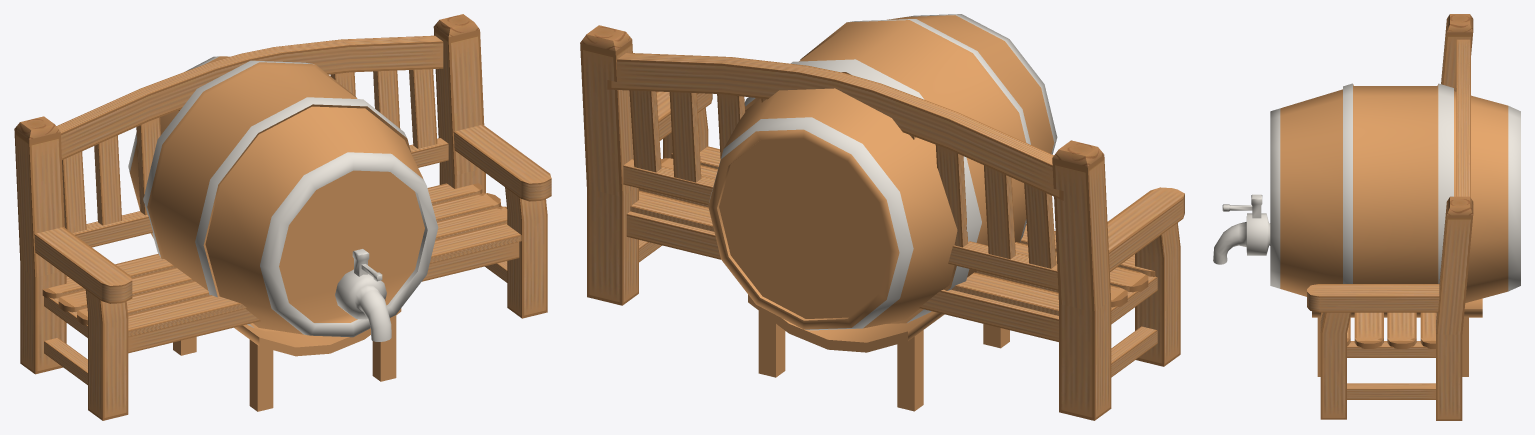
The model's file is PalmWoodBenchHand.fbx.
3 renders of one model, left to right at view 1: azimuth 30°, elevation 25°; view 2: azimuth 150°, elevation 25°; view 3: azimuth 270°, elevation 25°, orthographic. The views are drawn at different scales.
Parts seen in each view (by area): view 1: Bin (1), Keg (1); view 2: Bin (1), Keg (1); view 3: Keg (1), Bin (1).
Part boxes in pixels (x1,y1,x2,y2): Bin (1): (14,14,551,420); Keg (1): (128,56,438,411); Bin (1): (580,25,1184,420); Keg (1): (708,14,1057,411); Keg (1): (1213,83,1520,376); Bin (1): (1307,14,1473,420).
Bounding box in the file's own units: 1.19 × 0.7134 × 0.7864.
